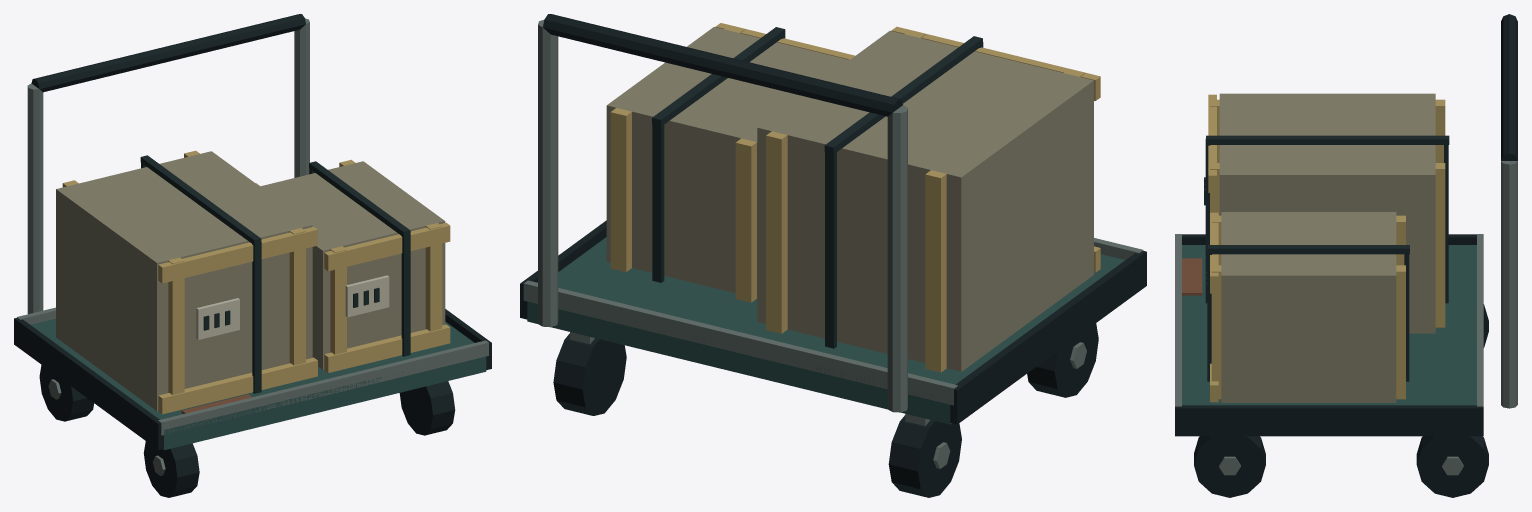
File: v116-yard-loading-trolley.glb
3 views of the same model, side by side, from view 1: azimuth 30°, elevation 25°; view 2: azimuth 150°, elevation 25°; view 3: azimuth 270°, elevation 25° (orthographic). The views are drawn at different scales.
Parts seen in each view (by area): view 1: loading-trolley; view 2: loading-trolley; view 3: loading-trolley.
Part boxes in pixels (bbox=[...]): loading-trolley: bbox=[14, 14, 491, 497]; loading-trolley: bbox=[520, 14, 1146, 497]; loading-trolley: bbox=[1175, 14, 1517, 497].
Bounding box in the file's own units: 1.2 × 1.1 × 1.
